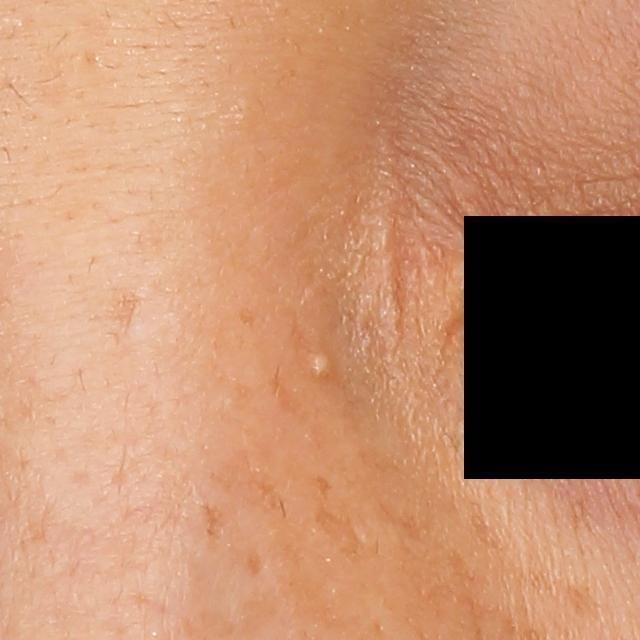atrophic_scar: (104, 286, 137, 336)
melasma: (464, 497, 619, 635), (212, 450, 305, 529), (309, 473, 381, 565), (369, 494, 438, 552), (196, 500, 232, 553)
other: (304, 346, 343, 387)
